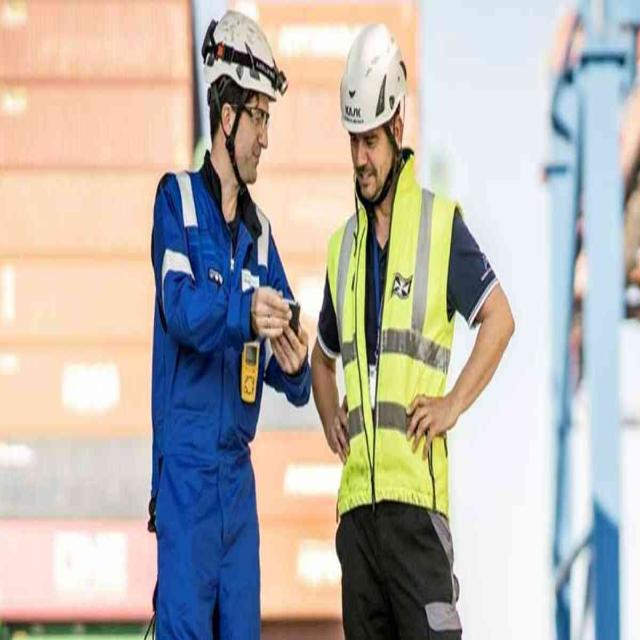goggles: (225, 97, 270, 126)
helmet: (337, 20, 412, 136), (202, 7, 288, 105)
no-goggles: (347, 118, 404, 152)
vest: (322, 188, 452, 520)
